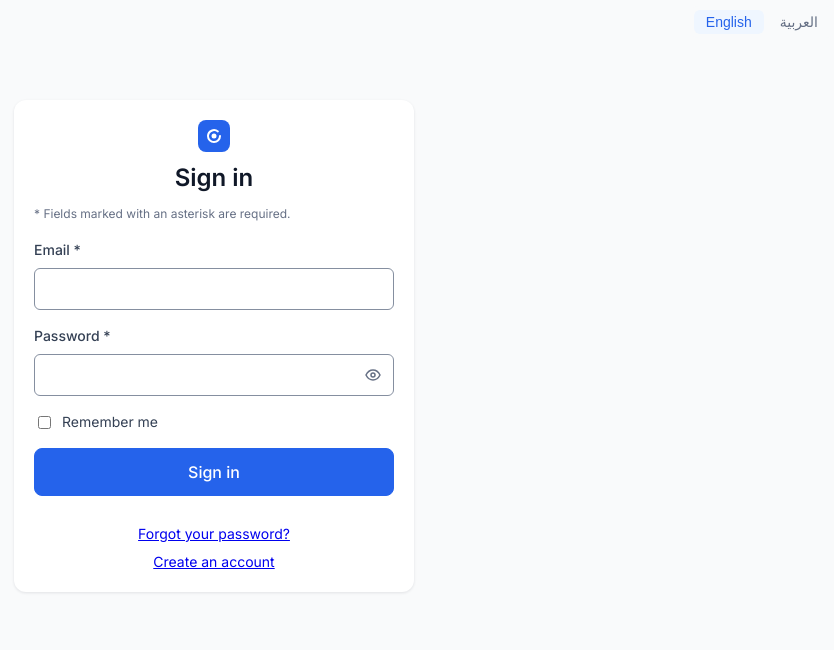
Scenario: SignInPage › maps ACCOUNT_DISABLED to the deactivated-account message
The width and height of the screenshot is (834, 650).
Type "a@b.com" into the field labelled "Email *" at (214, 289), box [47, 269, 381, 309]
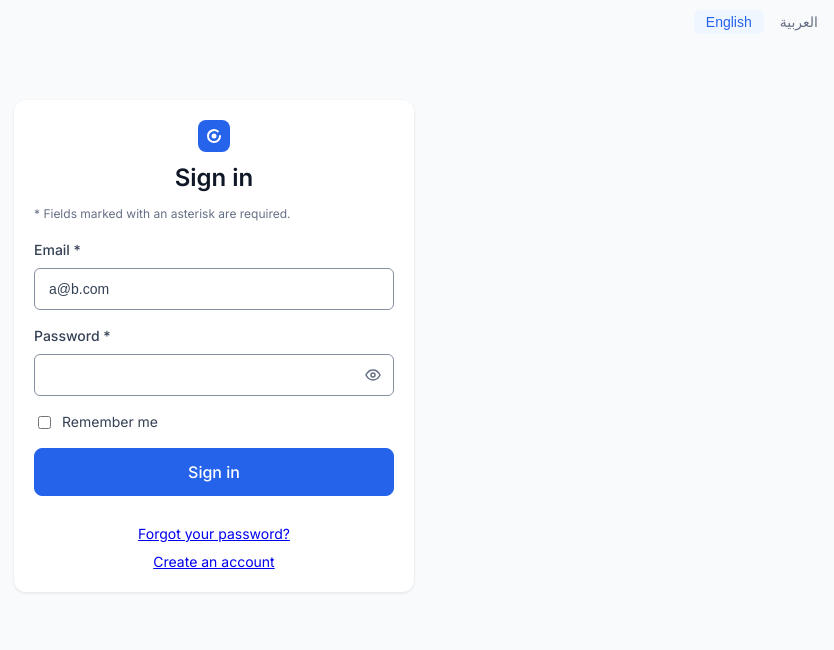
Type "Passw0rd!" into the password field labelled "Password *" at (202, 375), box [47, 355, 357, 395]
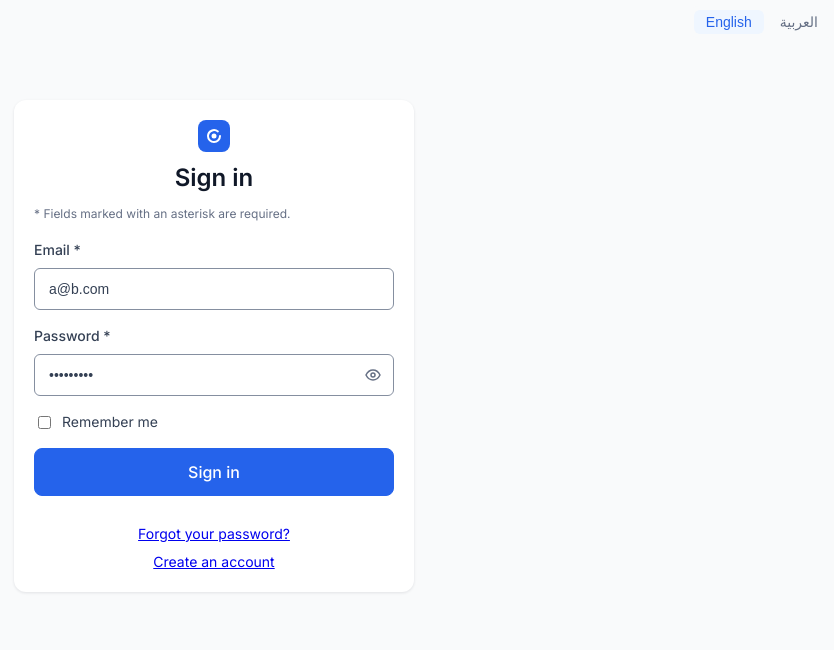
Click the button "Sign in" at (214, 472), box [34, 448, 394, 496]
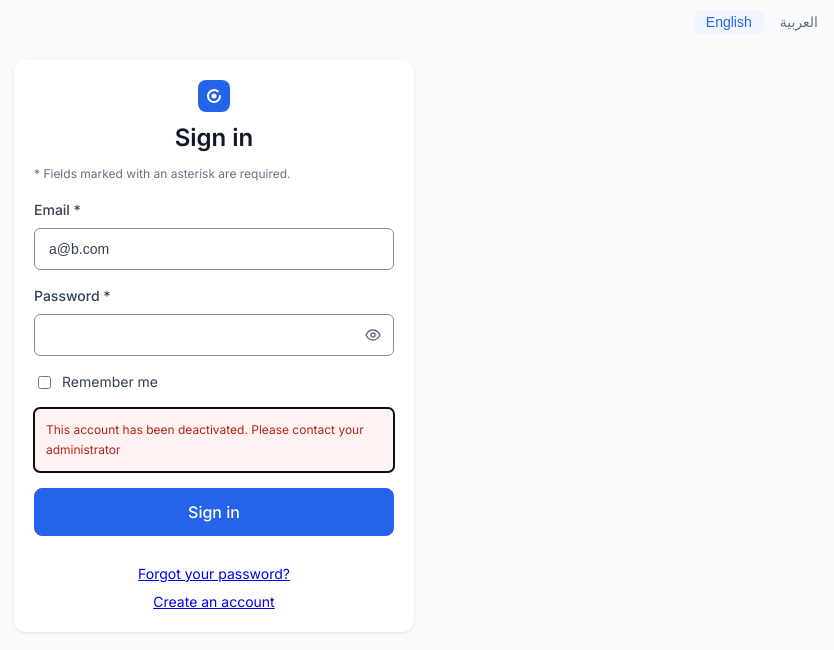
Check: the text "This account has been deactivated. Please contact your administrator" is shown, box [34, 408, 394, 472]
